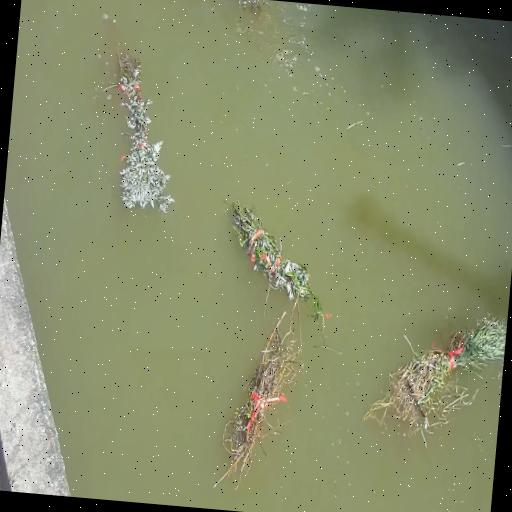twig: (362, 313, 507, 448), (213, 300, 301, 487), (103, 20, 173, 212), (232, 201, 323, 321)
